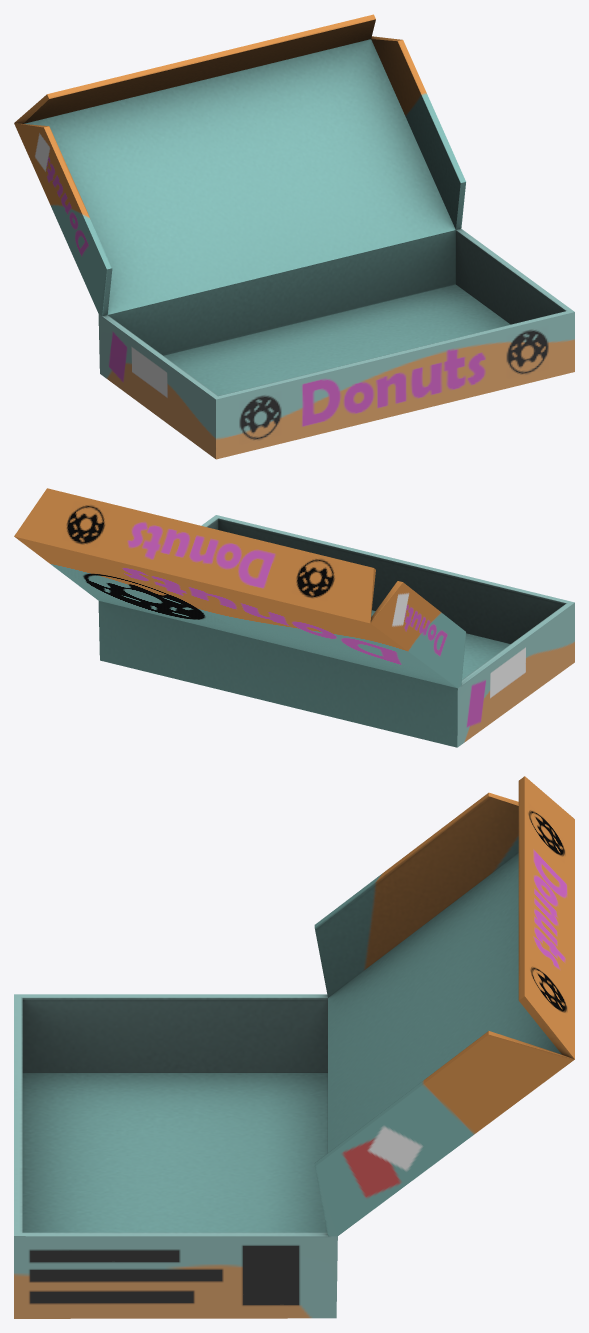
The model's file is Prop_DonutBox.FBX.
3 renders of one model, top to bottom at view 1: azimuth 30°, elevation 25°; view 2: azimuth 150°, elevation 25°; view 3: azimuth 270°, elevation 25°, orthographic. The views are drawn at different scales.
Visible parts, largest first — view 1: Box001; view 2: Box001; view 3: Box001.
Boxes of the visible parts, x1,y1,x2,y2 form: Box001: (14, 14, 574, 459); Box001: (14, 488, 574, 747); Box001: (14, 776, 574, 1318).
Size of the model in its own units: 44.38 by 26.67 by 43.48.
